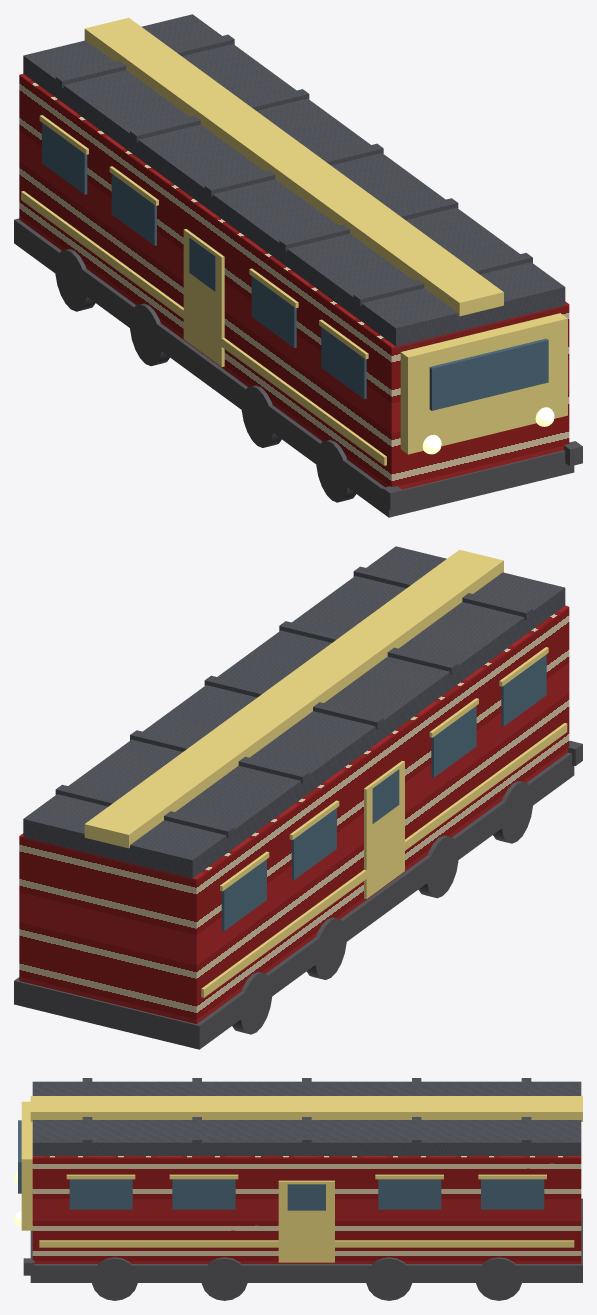
The model's file is SM_Train_Express_Detailed.glb.
3 renders of one model, top to bottom at view 1: azimuth 30°, elevation 25°; view 2: azimuth 150°, elevation 25°; view 3: azimuth 270°, elevation 25°, orthographic. The views are drawn at different scales.
Visible parts, largest first — view 1: Body, Roof, RoofSpine, Underframe, CabFront, Windshield, Stripe1, Door1, Window-3.01, Window+1.51, Window+3.01, Window-1.51 (+10 smaller); view 2: Body, Roof, RoofSpine, Underframe, Stripe1, Door1, Window-3.01, Window-1.51, Window+1.51, Window+3.01, Wheel1+1.2, Wheel1-1.2 (+8 smaller); view 3: Body, Roof, RoofSpine, Underframe, Stripe-1, Door-1, Window-3.0-1, Window-1.5-1, Window+1.5-1, Window+3.0-1, CabFront, Wheel-1-2.8 (+13 smaller).
Part boxes in pixels (x1,y1,x2,y2): Body: (19,74,569,489); Roof: (23,14,565,350); RoofSpine: (84,17,503,316); Underframe: (14,218,574,517); CabFront: (400,313,567,454); Windshield: (429,338,548,410); Stripe1: (21,191,386,465); Door1: (183,229,224,366); Window-3.01: (321,327,366,399); Window+1.51: (111,174,156,245); Window+3.01: (42,122,87,194); Window-1.51: (251,276,296,347); Body: (19,605,569,1023); Roof: (23,546,565,882); RoofSpine: (84,549,503,848); Underframe: (14,752,574,1049); Stripe1: (201,723,567,997); Door1: (364,761,404,898); Window-3.01: (501,654,546,726); Window-1.51: (431,706,476,777); Window+1.51: (291,808,336,879); Window+3.01: (221,859,266,930); Wheel1+1.2: (306,917,346,979); Wheel1-1.2: (418,835,458,898); Body: (32,1156,581,1263); Roof: (32,1081,581,1155); RoofSpine: (30,1096,582,1121); Underframe: (30,1198,582,1282); Stripe-1: (39,1240,574,1247); Door-1: (278,1180,334,1262); Window-3.0-1: (69,1179,132,1209); Window-1.5-1: (172,1179,235,1209); Window+1.5-1: (378,1179,441,1209); Window+3.0-1: (481,1179,544,1209); CabFront: (21,1101,32,1230); Wheel-1-2.8: (92,1257,137,1300).
Bounding box in the file's own units: 2.39 × 2.63 × 8.3.
Materials: 6 (2 with a texture image).
